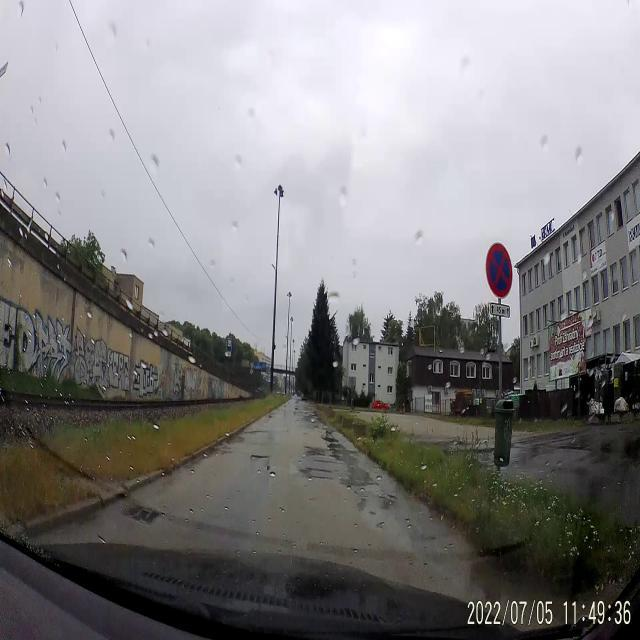Manhole: (126, 488, 164, 530)
Pothole: (296, 461, 336, 486), (245, 448, 272, 468)
